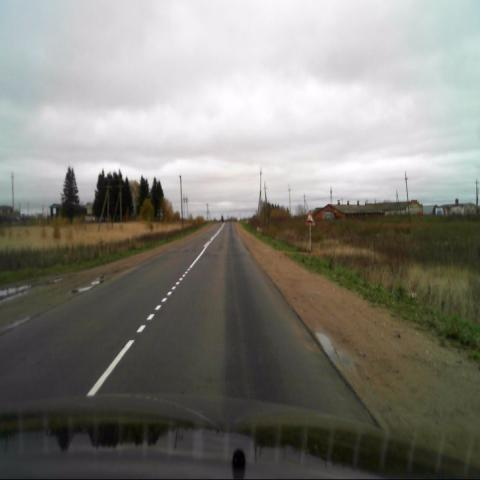1_16: (305, 211, 315, 227)
